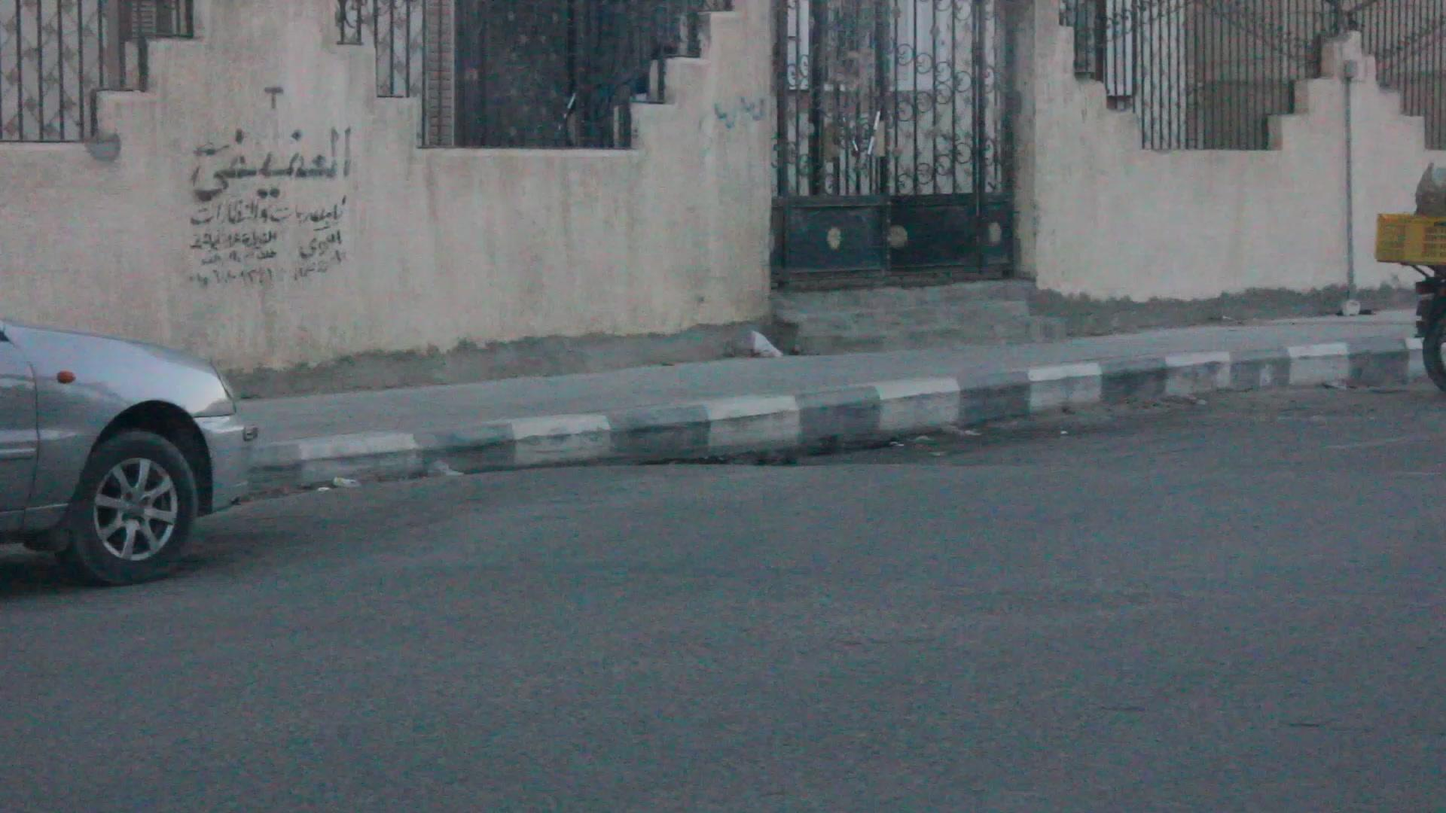Bump: (161, 462, 1445, 612)
